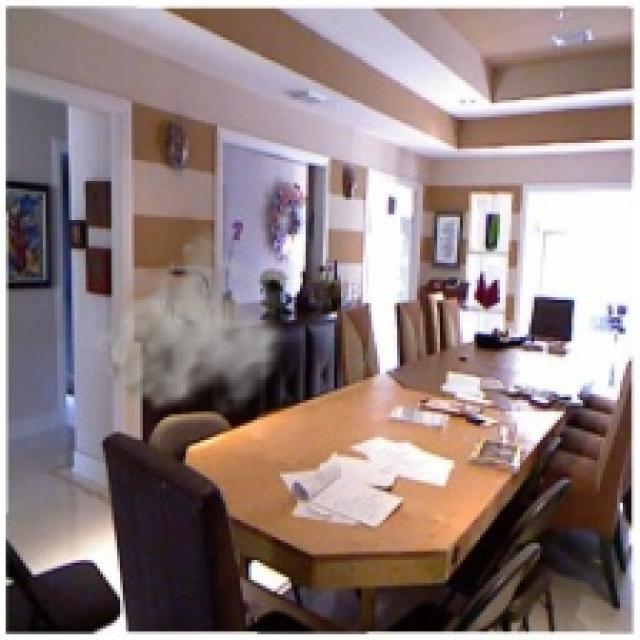Smoke: (88, 221, 292, 428)
